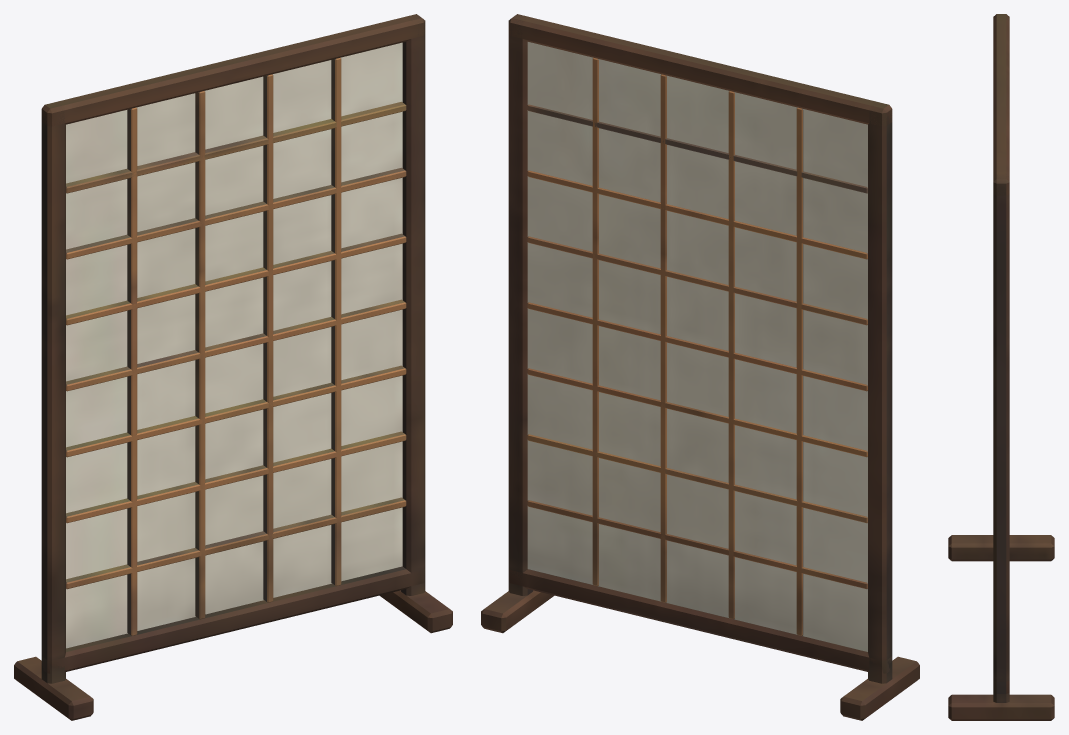
The model's file is lattice_screen.glb.
3 views of the same model, side by side, from view 1: azimuth 30°, elevation 25°; view 2: azimuth 150°, elevation 25°; view 3: azimuth 270°, elevation 25° (orthographic). The views are drawn at different scales.
Visible parts, largest first — view 1: lattice_screen; view 2: lattice_screen; view 3: lattice_screen.
Part boxes in pixels (x1,y1,x2,y2): lattice_screen: (14,14,452,720); lattice_screen: (481,14,919,720); lattice_screen: (948,14,1054,720).
Size of the model in its own units: 1.22 by 1.8 by 0.32.
Materials: 3 (3 with a texture image).
